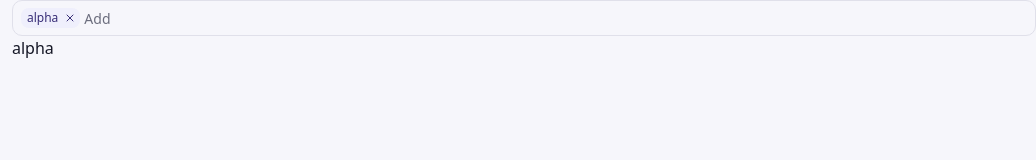
TagInput › splits pasted text, validates and respects max
This screenshot has width=1036, height=160.
Step 1. Click the field with placeholder "Add" → (556, 18), box [84,6,1027,30]
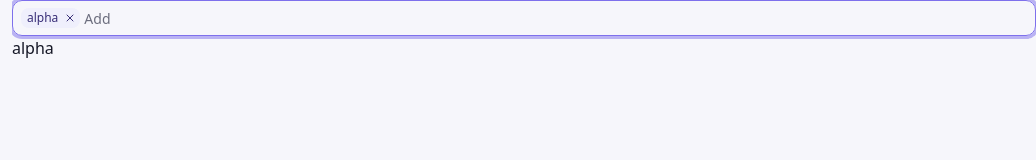
Step 2. Type keys "a@x.io, nope; b@x.io, c@x.io"
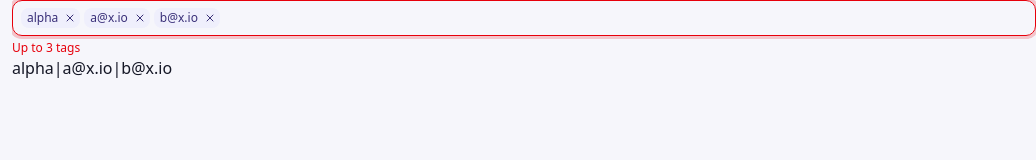
Result: the text with test id "value" reads "alpha|a@x.io|b@x.io" at [12,57,172,79]
Result: the message "Up to 3 tags" is shown at [12,39,80,56]
